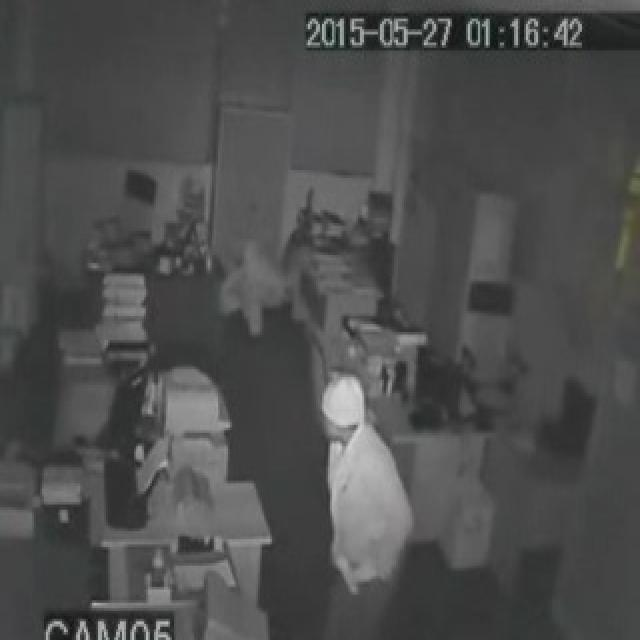thief: (314, 346, 408, 589), (222, 234, 296, 392)
